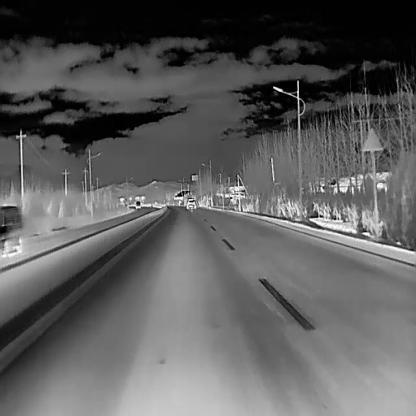car: (0, 203, 22, 256), (186, 198, 196, 211), (135, 200, 141, 209)
